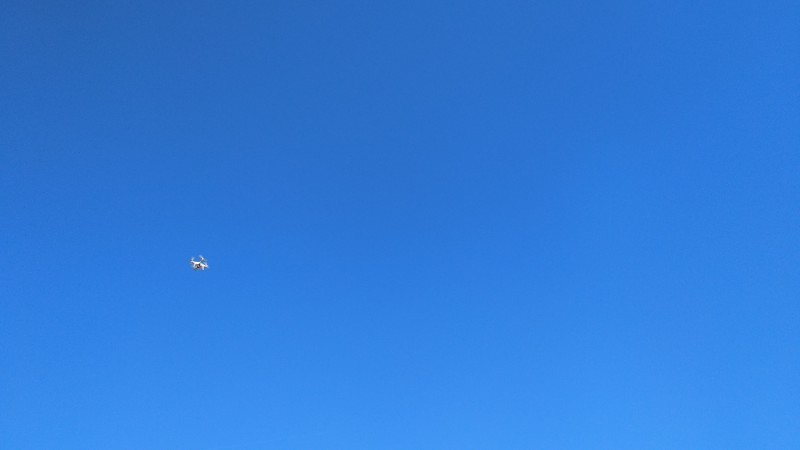drone: (190, 252, 210, 274)
